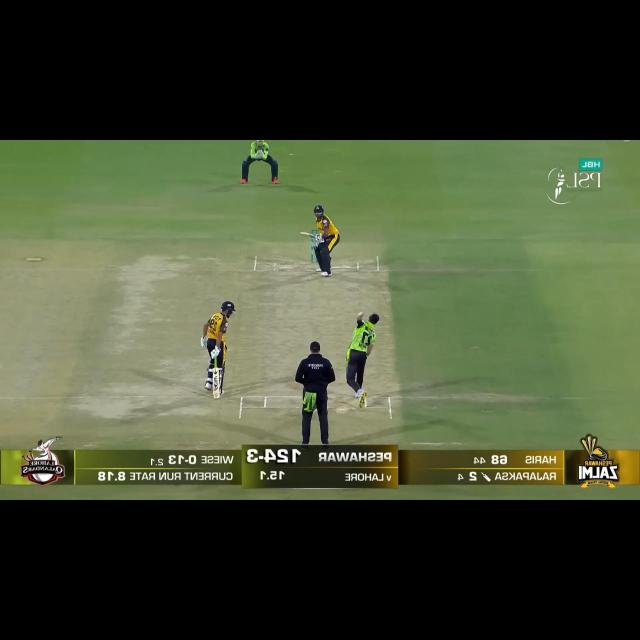bat: (213, 368, 221, 400), (299, 232, 320, 238)
toe: (212, 395, 222, 401), (299, 231, 304, 239)
